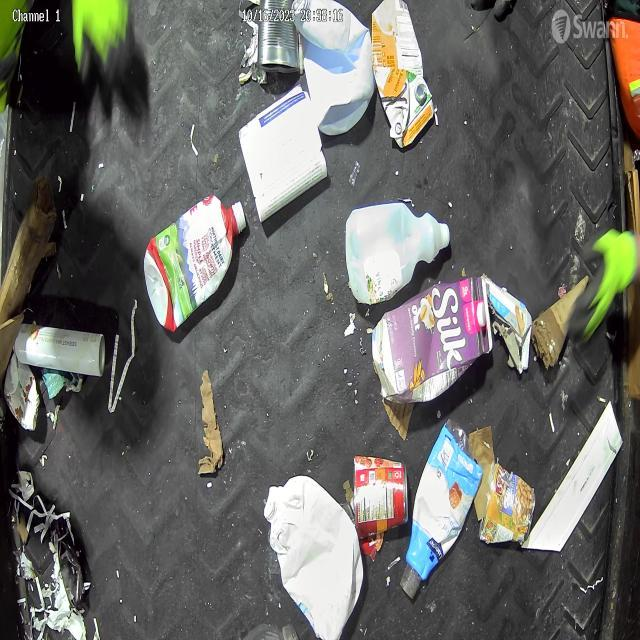can: (337, 439, 414, 542), (240, 0, 301, 76)
milk_jug: (260, 468, 368, 640), (294, 0, 379, 144)
